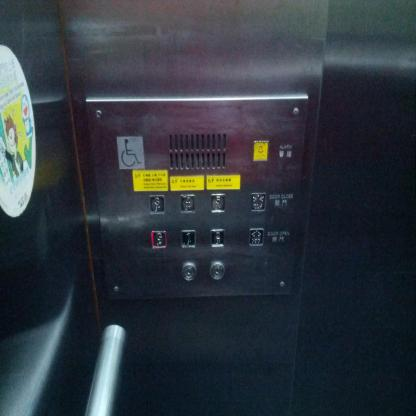1: (181, 229, 196, 249)
2: (209, 228, 226, 248)
3: (148, 194, 166, 215)
4: (179, 193, 196, 215)
5: (209, 192, 226, 214)
CH: (115, 134, 145, 170)
G: (150, 228, 167, 249)
alarm: (252, 140, 269, 162)
close: (250, 190, 266, 214)
keyhole: (181, 260, 197, 282), (209, 259, 225, 281)
open: (248, 227, 264, 248)
